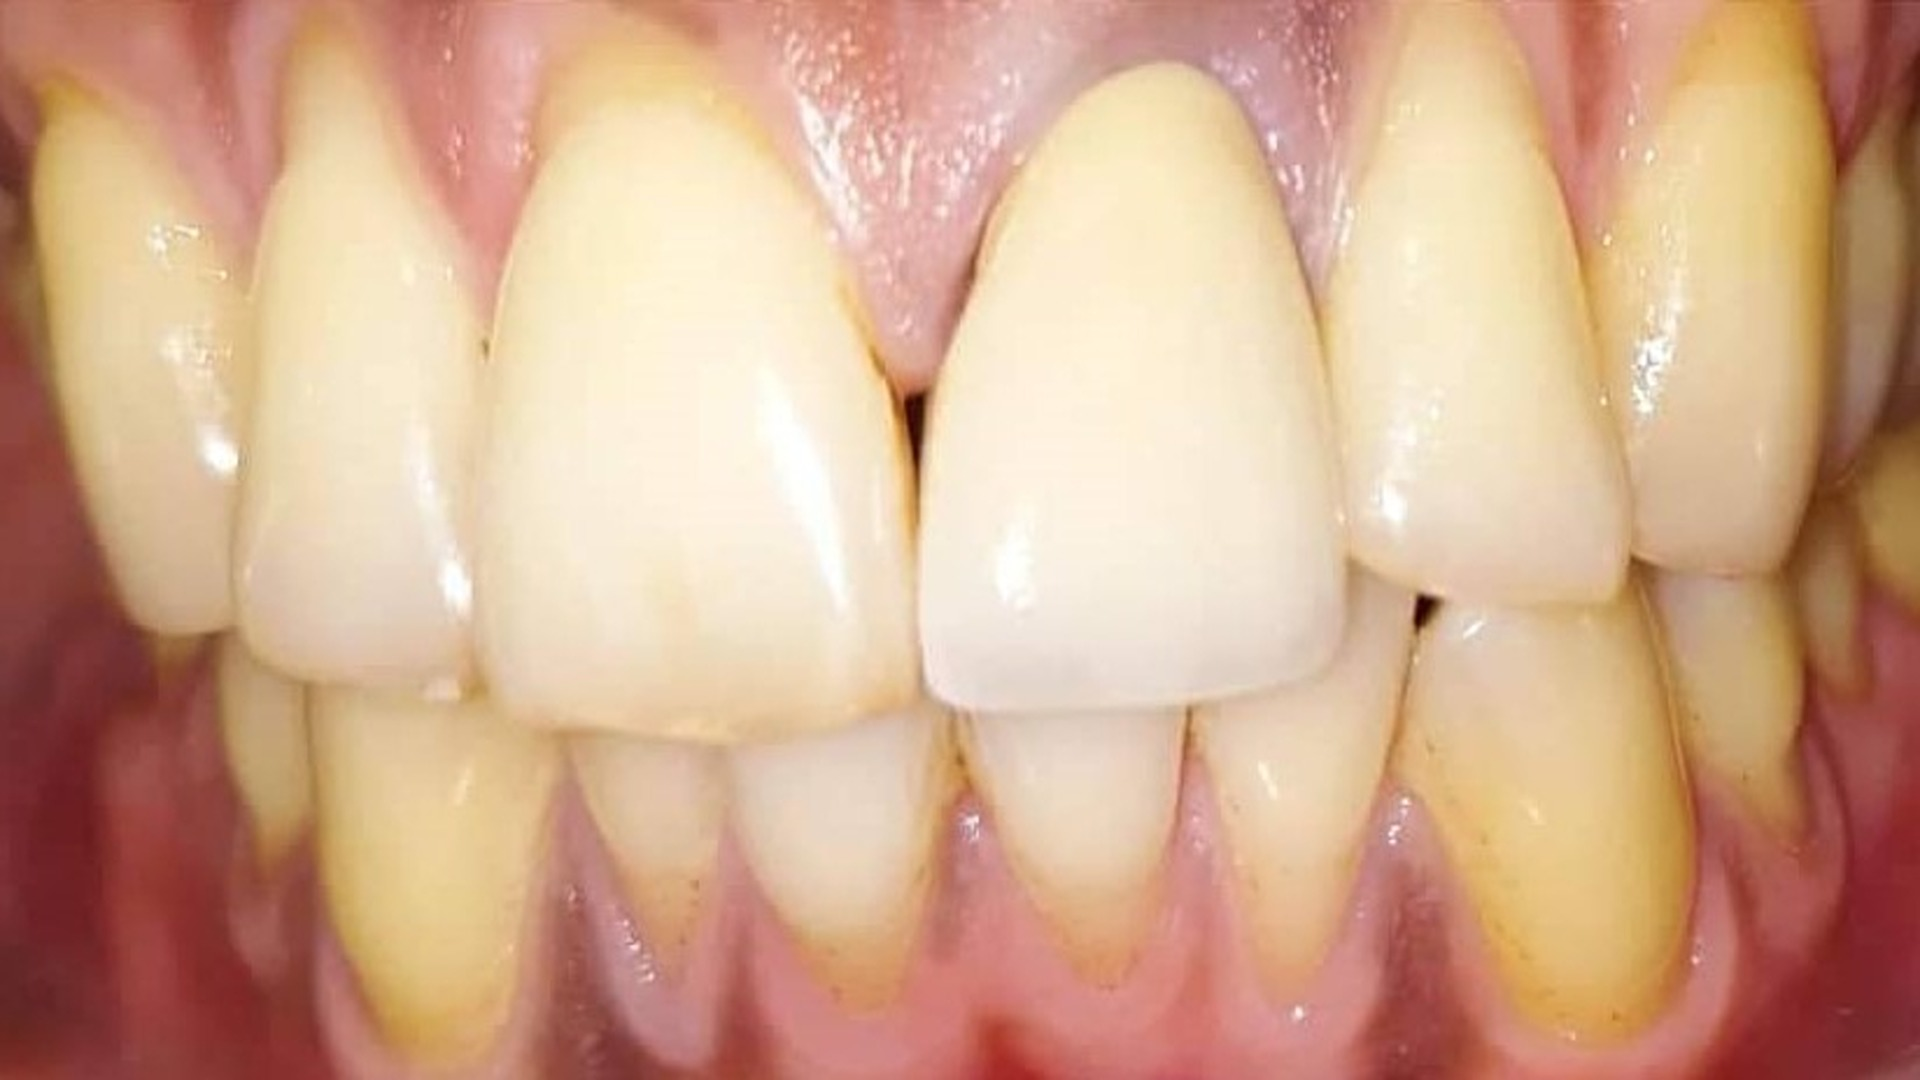tooth: (469, 76, 923, 746), (916, 61, 1348, 711), (1317, 1, 1633, 611), (231, 25, 487, 702), (1393, 578, 1700, 1051), (1590, 3, 1837, 576), (1586, 13, 1836, 578), (29, 73, 253, 637), (1193, 562, 1418, 1005), (307, 684, 562, 1062), (752, 691, 976, 1019), (957, 708, 1185, 988), (1630, 556, 1812, 851), (564, 731, 733, 980)
